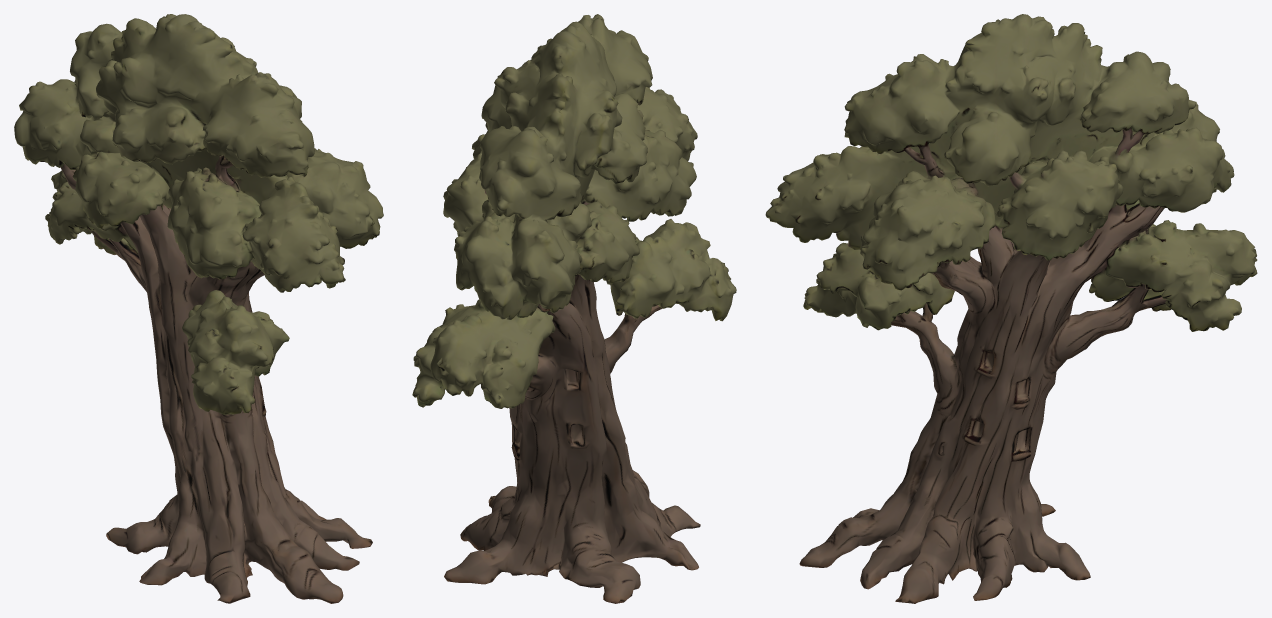
File: lift-tripo-h3.1-multiview.glb
3 renders of one model, left to right at view 1: azimuth 30°, elevation 25°; view 2: azimuth 150°, elevation 25°; view 3: azimuth 270°, elevation 25°, orthographic. The views are drawn at different scales.
Visible parts, largest first — view 1: tripo_node_633377bd-b089-4adc-9d7b-432d7b15e791; view 2: tripo_node_633377bd-b089-4adc-9d7b-432d7b15e791; view 3: tripo_node_633377bd-b089-4adc-9d7b-432d7b15e791.
Part boxes in pixels (bbox=[...]): tripo_node_633377bd-b089-4adc-9d7b-432d7b15e791: bbox=[14, 14, 383, 603]; tripo_node_633377bd-b089-4adc-9d7b-432d7b15e791: bbox=[412, 14, 736, 603]; tripo_node_633377bd-b089-4adc-9d7b-432d7b15e791: bbox=[765, 14, 1257, 603].
Bounding box in the file's own units: 0.4501 × 1 × 0.8455.
1 material, 1 textured.
